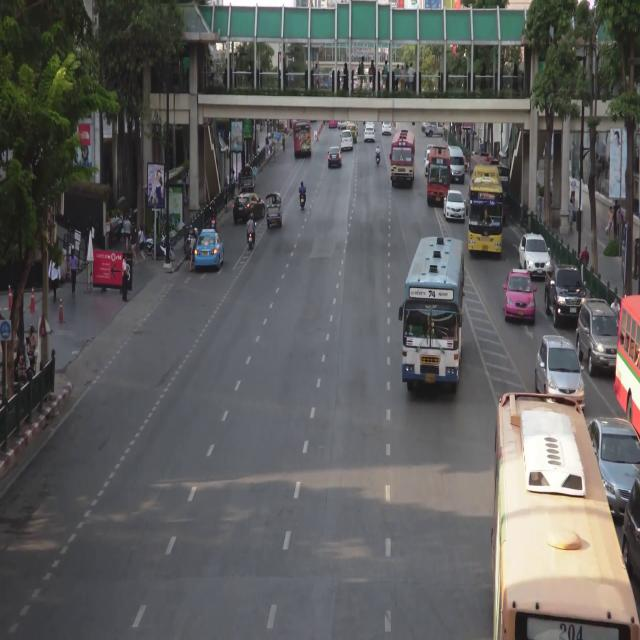bus: (493, 396, 637, 640), (406, 237, 462, 390), (617, 293, 640, 432), (470, 165, 503, 256), (470, 153, 509, 222), (392, 129, 415, 184), (428, 146, 449, 203), (293, 120, 311, 156)
car: (587, 414, 640, 520), (536, 333, 585, 409), (577, 300, 618, 372), (546, 264, 586, 327), (623, 480, 640, 580), (519, 235, 553, 278), (234, 194, 266, 221), (444, 190, 465, 221), (448, 146, 465, 183), (266, 193, 282, 228), (241, 166, 254, 192), (328, 147, 342, 167), (341, 130, 352, 151), (423, 124, 444, 135), (364, 126, 375, 142), (382, 122, 391, 135), (425, 149, 429, 175), (339, 122, 347, 129)
pedestrian: (49, 254, 58, 303), (69, 250, 77, 298), (29, 323, 36, 367), (138, 227, 146, 262), (122, 256, 128, 302), (130, 224, 137, 261), (124, 217, 131, 251), (189, 234, 195, 270), (581, 245, 589, 267), (571, 173, 576, 207), (608, 207, 613, 239), (230, 170, 236, 196), (538, 191, 543, 222), (569, 197, 573, 233), (252, 164, 257, 188), (224, 178, 228, 207), (266, 134, 269, 155), (273, 143, 276, 162), (282, 134, 285, 152)
taxi: (505, 270, 536, 322), (196, 229, 224, 268), (347, 124, 357, 142)
